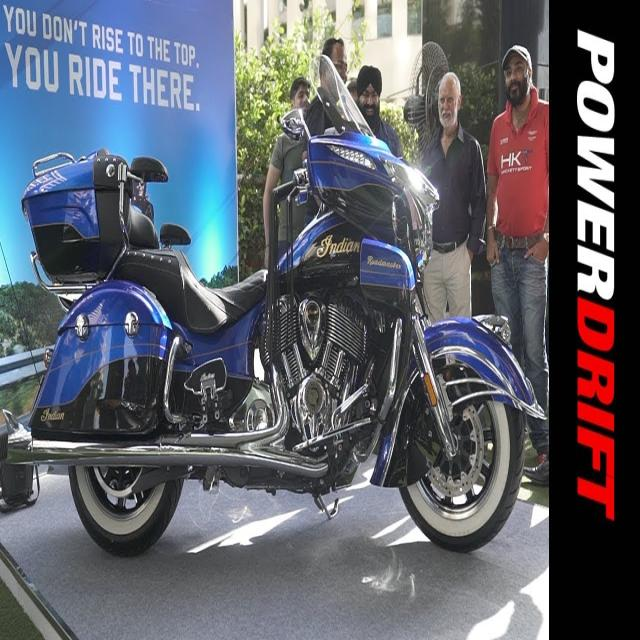motorcycle: (6, 56, 540, 554)
